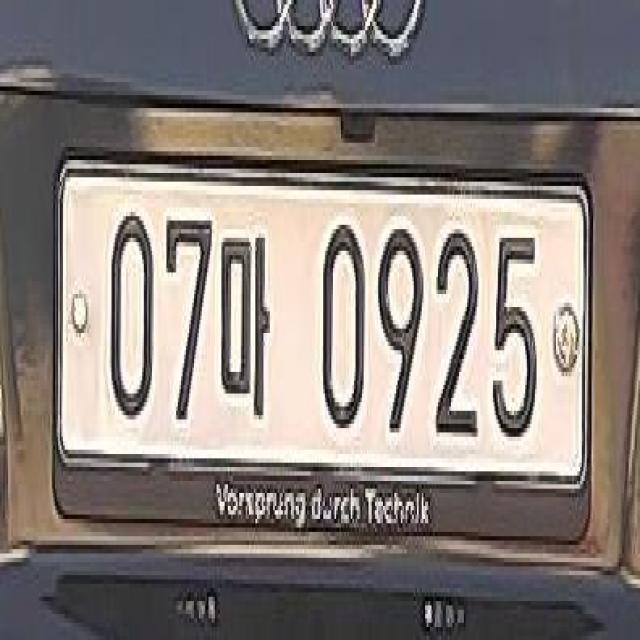illegal_plate: (56, 142, 600, 550)
